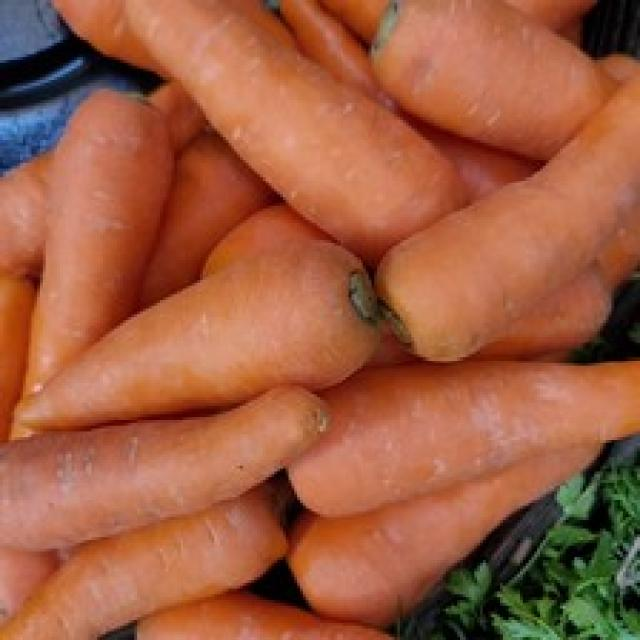Fresh_Carrot: (120, 0, 460, 259), (362, 71, 640, 370), (14, 249, 393, 416), (2, 386, 338, 552), (294, 454, 598, 634), (284, 362, 640, 509), (0, 483, 296, 640), (27, 94, 177, 395), (373, 0, 626, 156), (160, 133, 253, 300)
